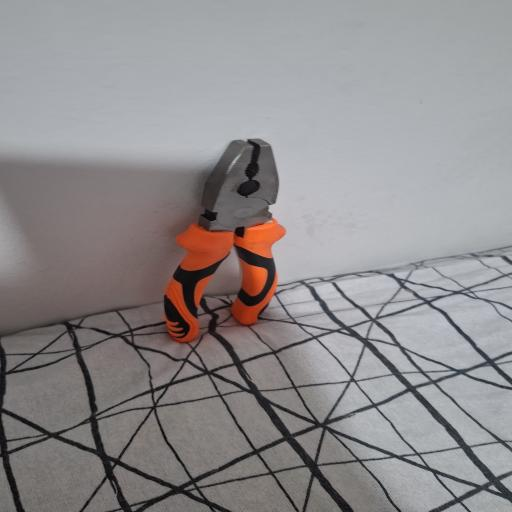alicate: (156, 136, 287, 346)
